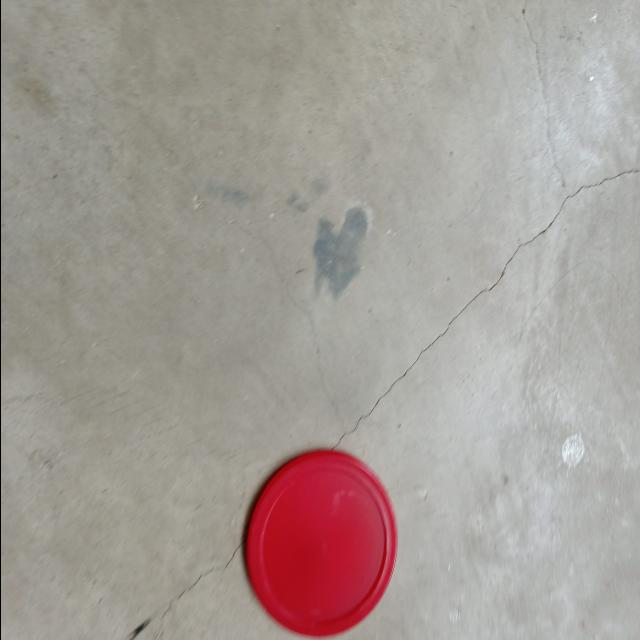chip: (243, 447, 398, 640)
